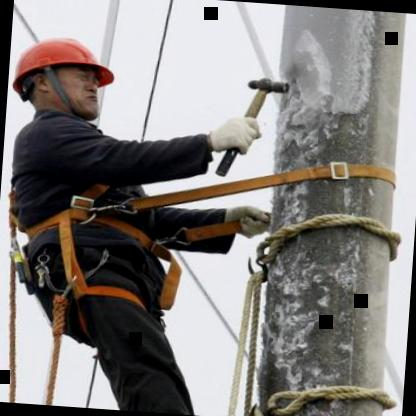helmet: (6, 23, 127, 128)
